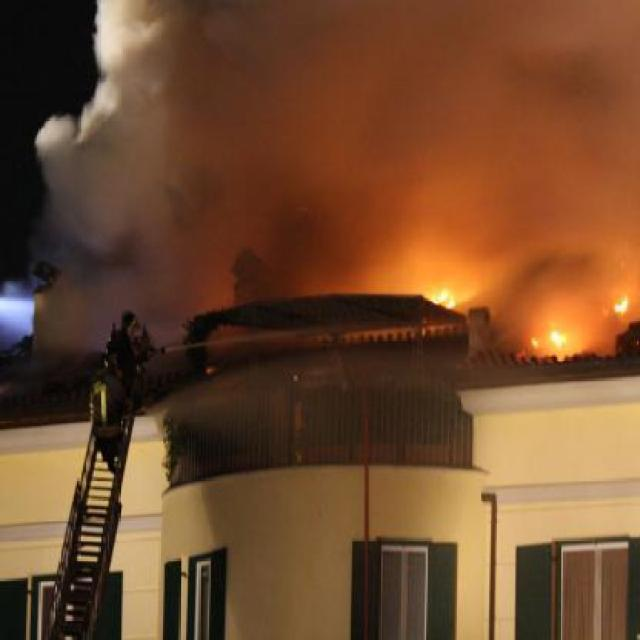Fire: (530, 323, 566, 354), (613, 286, 632, 316), (433, 287, 455, 307)
